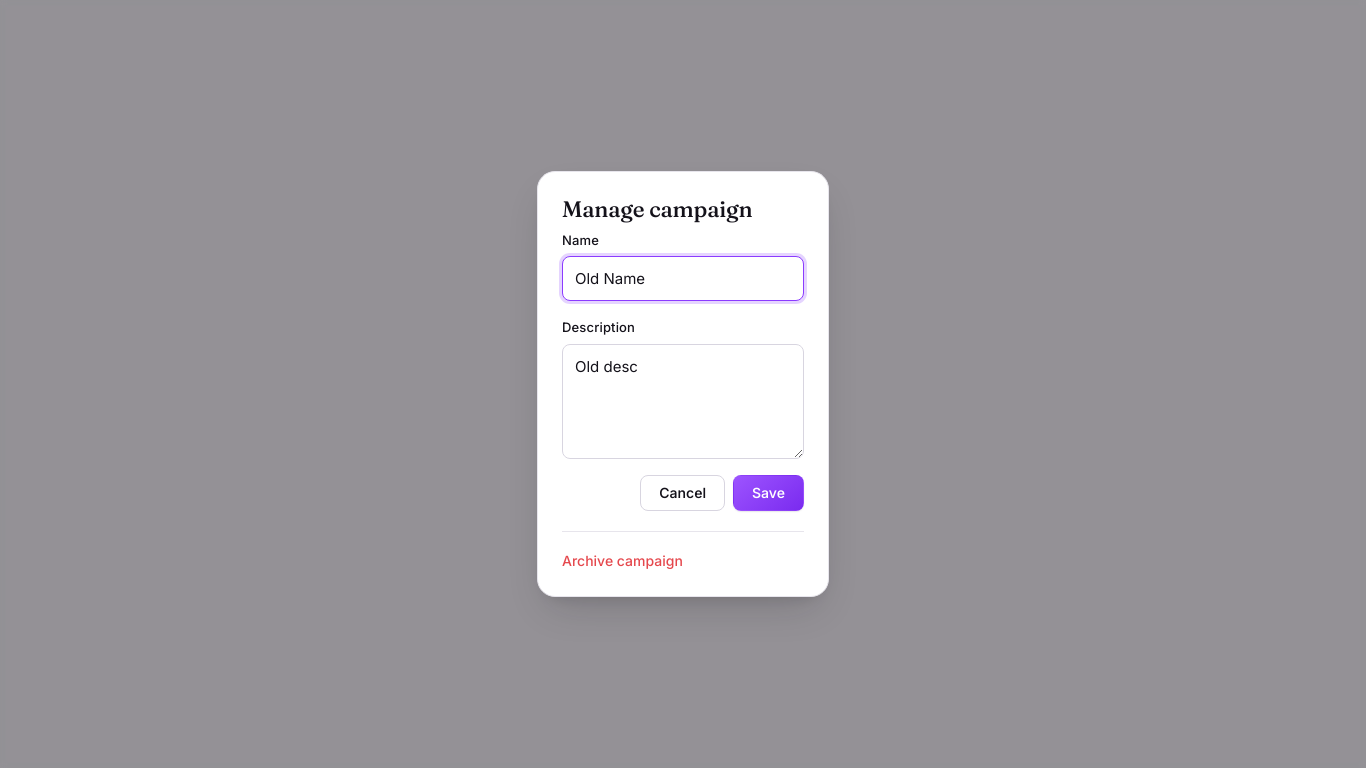
Test: ManageCampaignModal › requires a confirm step before archiving
The width and height of the screenshot is (1366, 768).
Click the button "Archive campaign": (622, 560) x1=562 y1=554 x2=683 y2=568
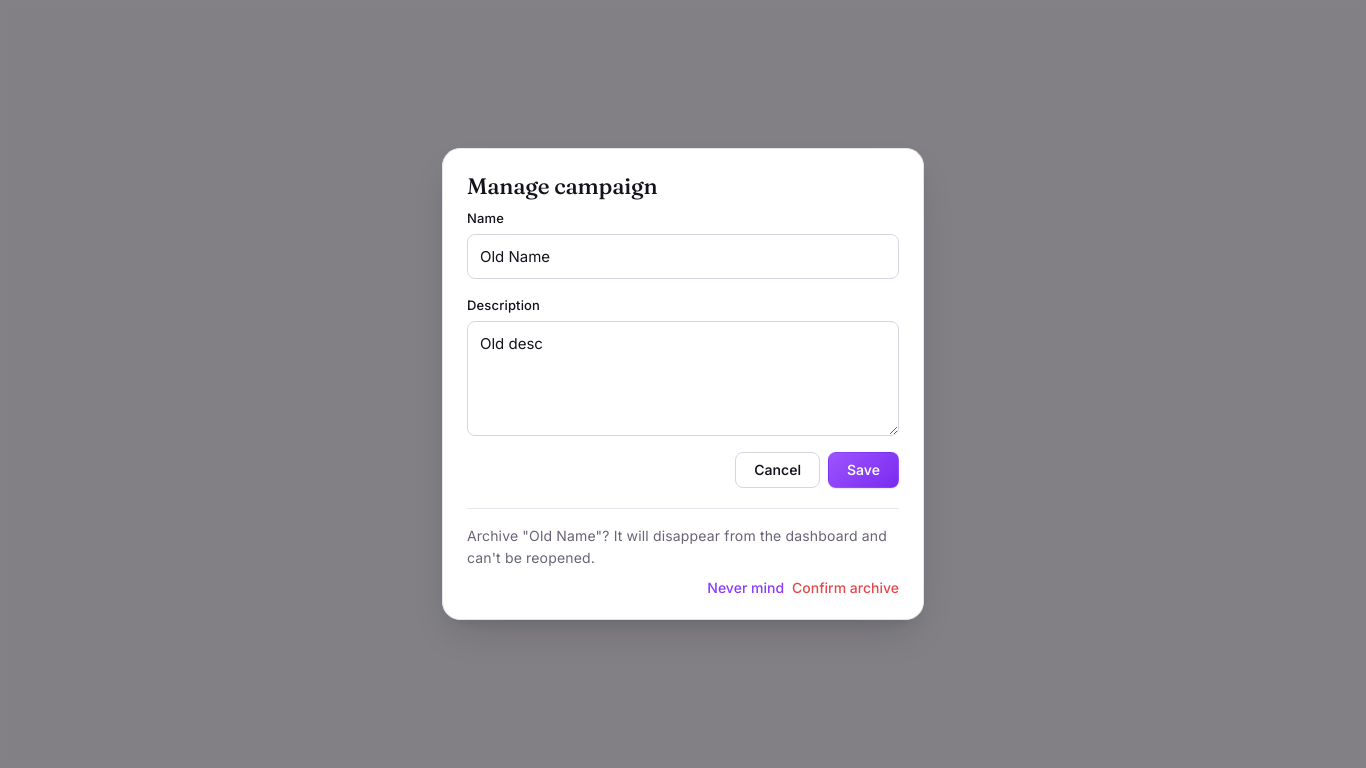
Expected: the text "Archive \"Old Name\"?" is shown, x1=467 y1=525 x2=899 y2=569
